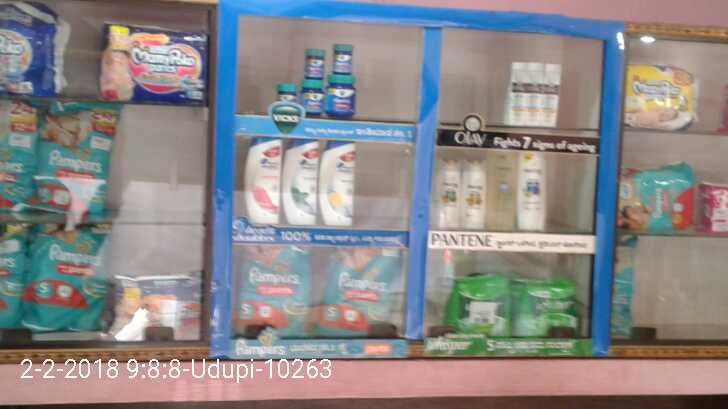beauty: (499, 60, 560, 132), (240, 130, 276, 228), (317, 137, 354, 224), (281, 136, 314, 228), (513, 158, 546, 232), (459, 159, 488, 230), (438, 155, 460, 230)
pharmacy: (30, 206, 112, 337), (37, 95, 118, 216), (319, 246, 407, 339), (234, 243, 310, 340), (617, 163, 703, 232), (514, 275, 580, 344), (452, 282, 509, 338), (324, 73, 359, 116), (329, 39, 362, 78), (297, 82, 323, 115), (305, 47, 330, 76)
